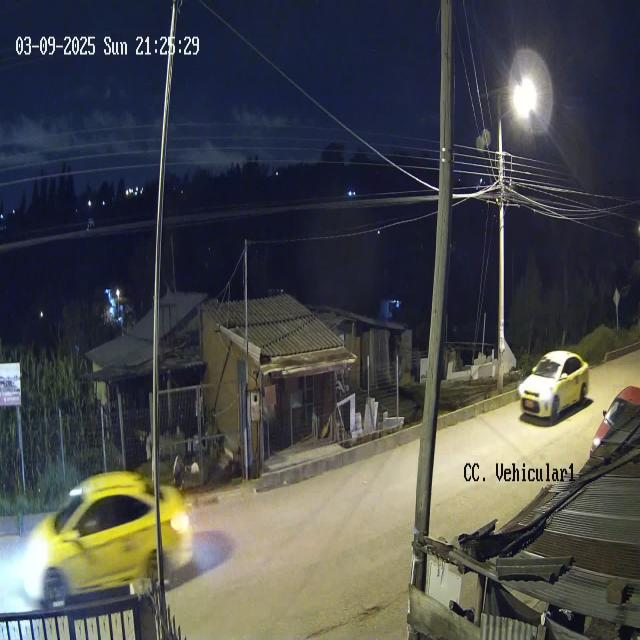SED: (25, 468, 195, 604), (518, 349, 590, 424)
